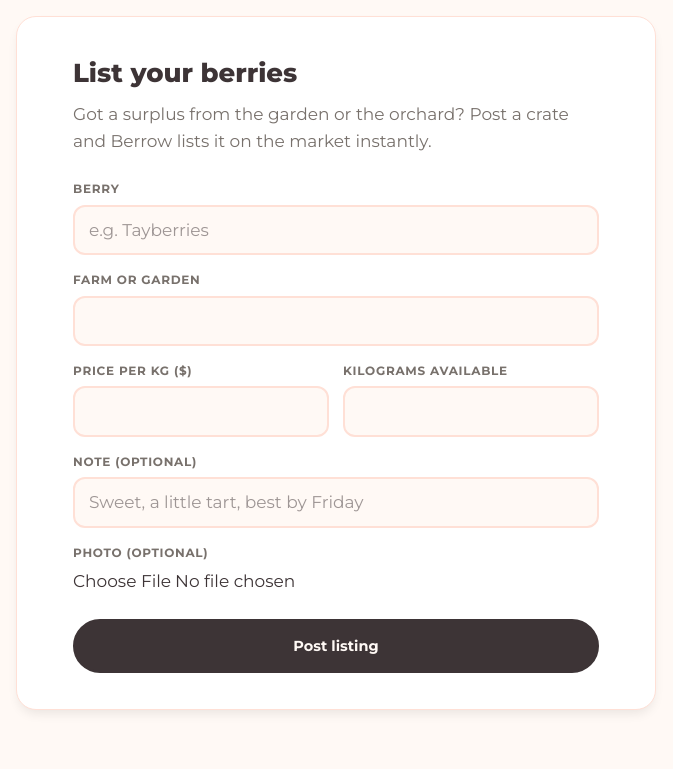
Test: SellPage › shows backend validation errors inline
Type "Sunrow Farm" into the field labelled "Farm or garden" at (336, 321), box [73, 296, 599, 346]
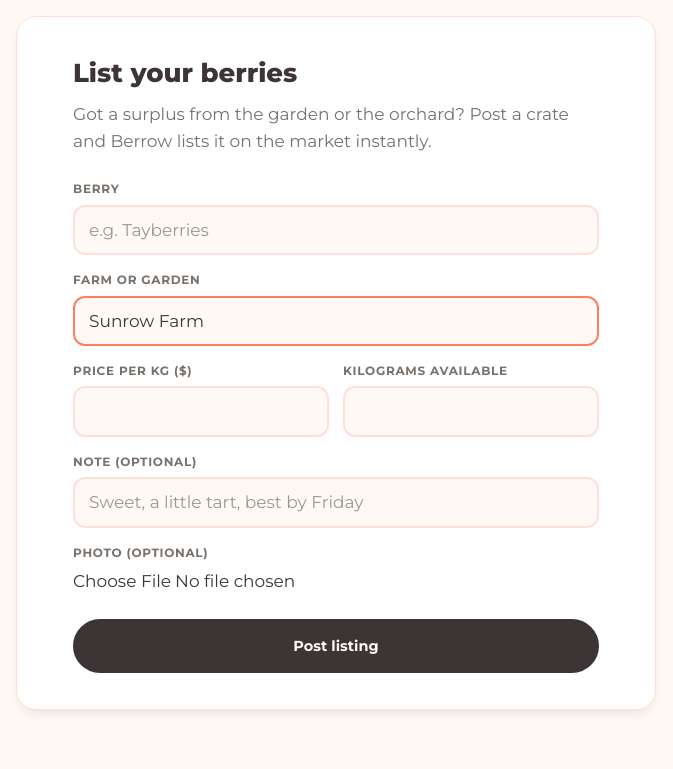
Type "6.40" into the number field labelled "Price per kg ($)" at (201, 412), box [73, 386, 329, 437]
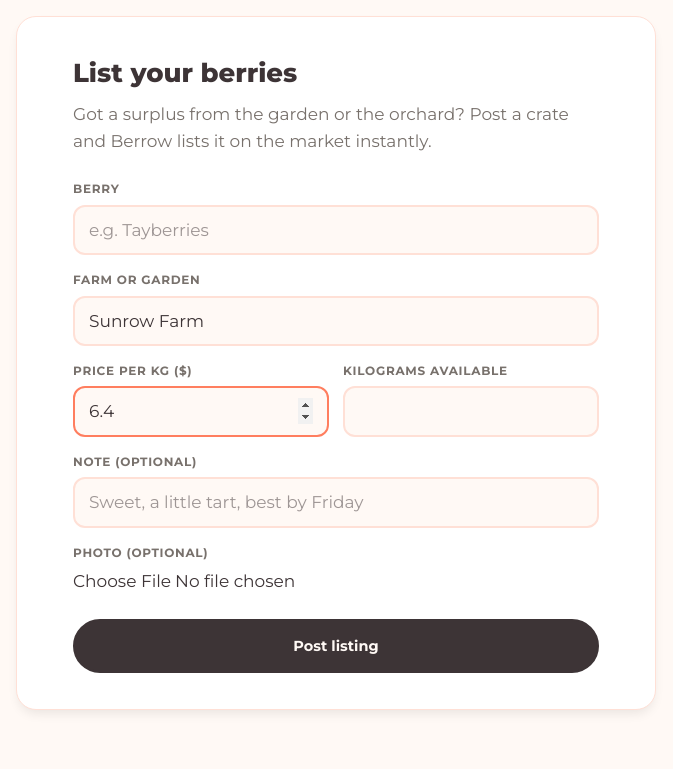
Type "10" into the number field labelled "Kilograms available" at (471, 412), box [343, 386, 599, 437]
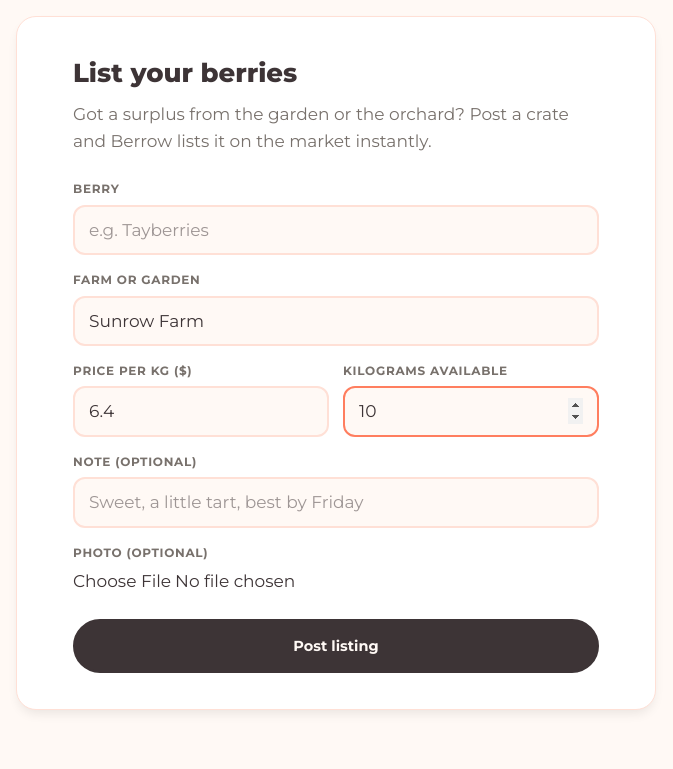
Submit the form named "Post listing", box [73, 180, 599, 673]
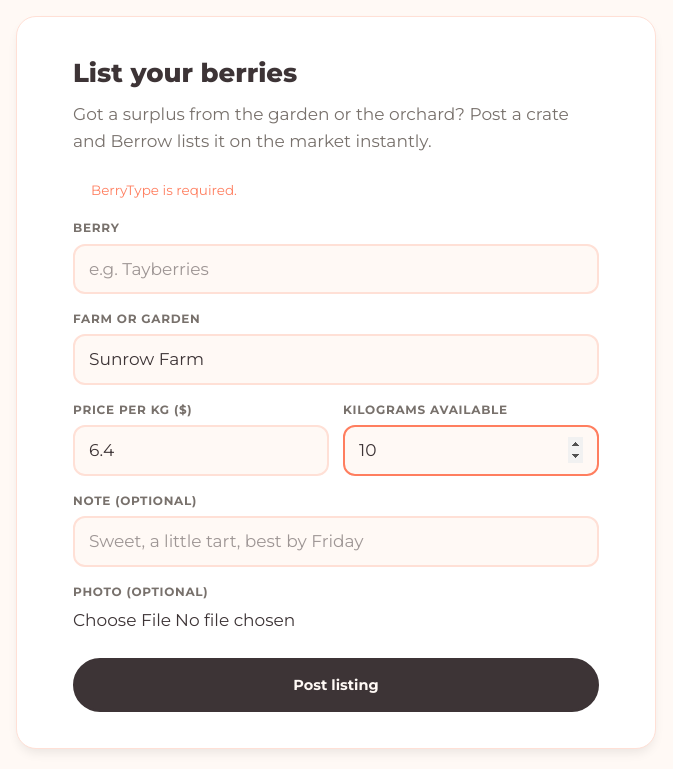
expect the list item "BerryType is required." is shown: met, box [91, 182, 237, 198]
